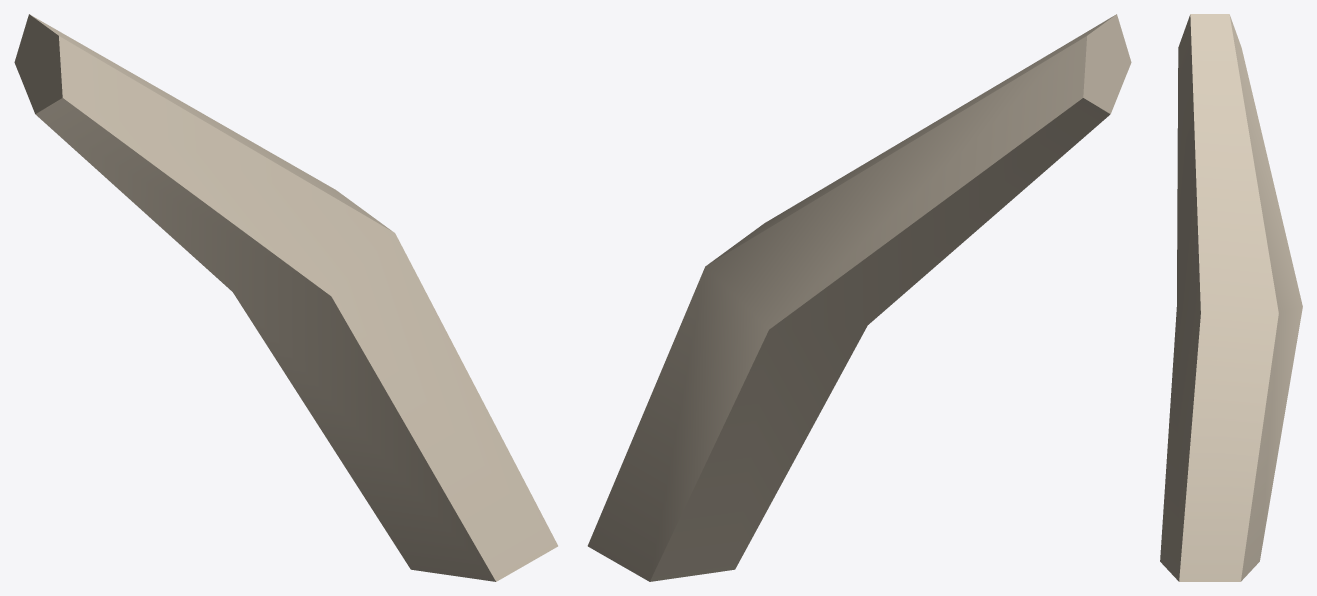
The model's file is Pata2.fbx.
3 views of the same model, side by side, from view 1: azimuth 30°, elevation 25°; view 2: azimuth 150°, elevation 25°; view 3: azimuth 270°, elevation 25° (orthographic). The views are drawn at different scales.
Visible parts, largest first — view 1: Pata2; view 2: Pata2; view 3: Pata2.
Boxes of the visible parts, box(x1,y1,x2,y2) form: Pata2: box(14, 14, 557, 581); Pata2: box(587, 14, 1131, 581); Pata2: box(1160, 14, 1302, 581).
Size of the model in its own units: 7.29 by 8.84 by 2.74.
